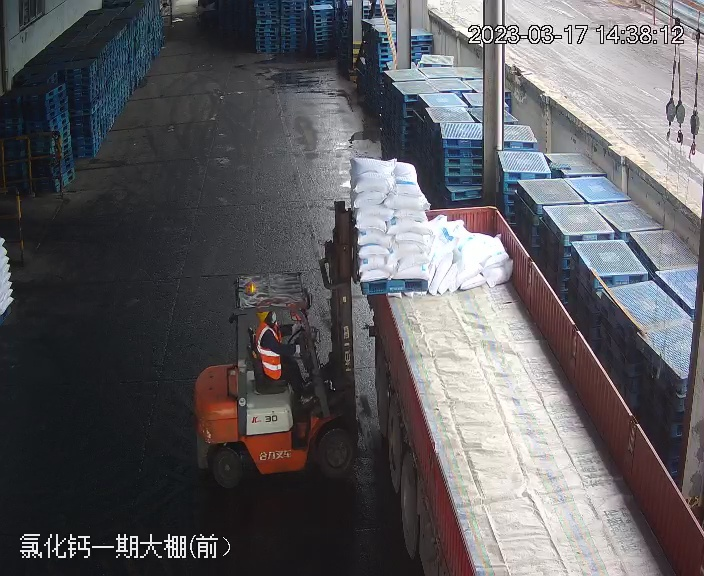head: (254, 309, 288, 349)
people: (254, 308, 318, 403)
truck: (350, 167, 698, 576)
